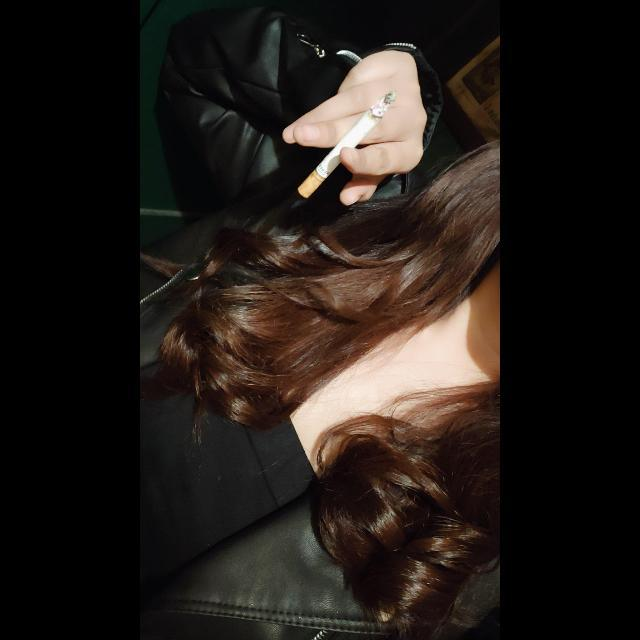rokok: (298, 86, 396, 202)
